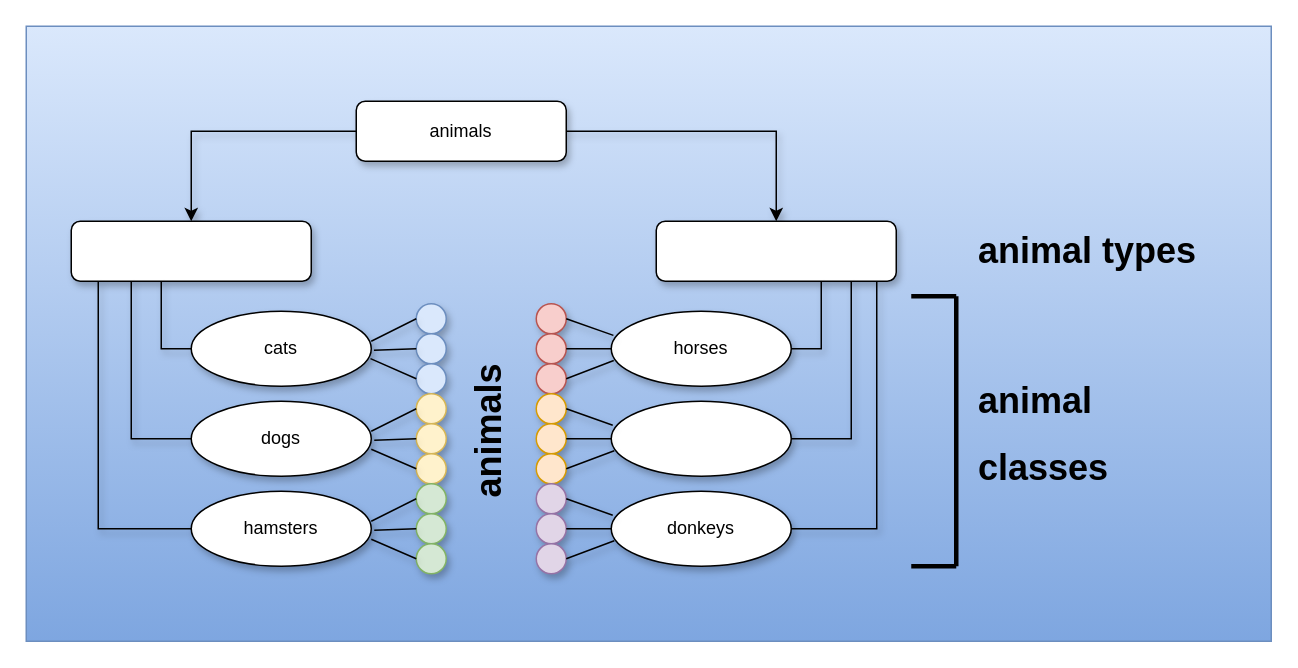
The diagram is 1298 pixels wide and 668 high, and some of its shapes have lost their labels. Each missing label, with the centre of its shape:
camels: point 702,440
pack animals: point 777,253
pets: point 192,253
